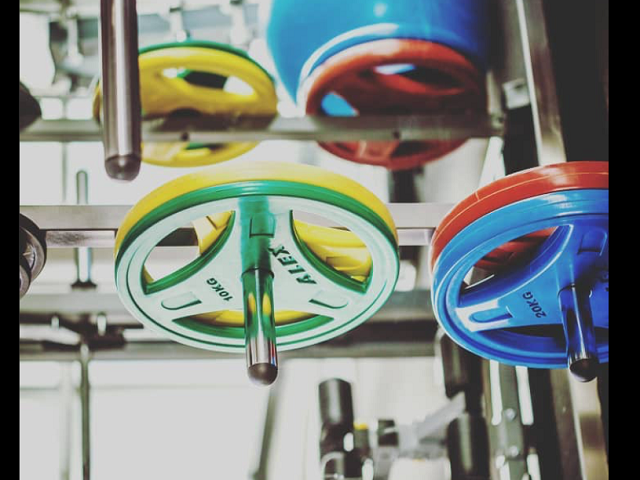weights: (112, 160, 404, 355), (428, 162, 606, 367), (294, 20, 490, 172), (93, 41, 280, 168)
